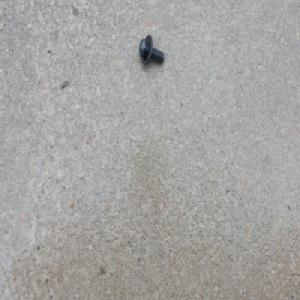BoltWasher: (139, 34, 165, 67)
